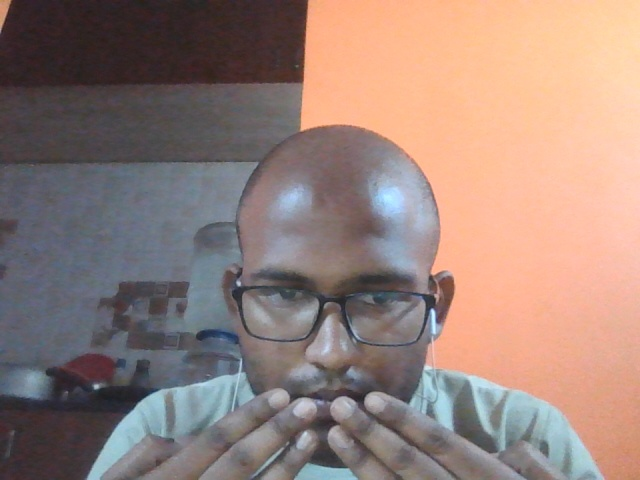thanks: (75, 379, 588, 480)
